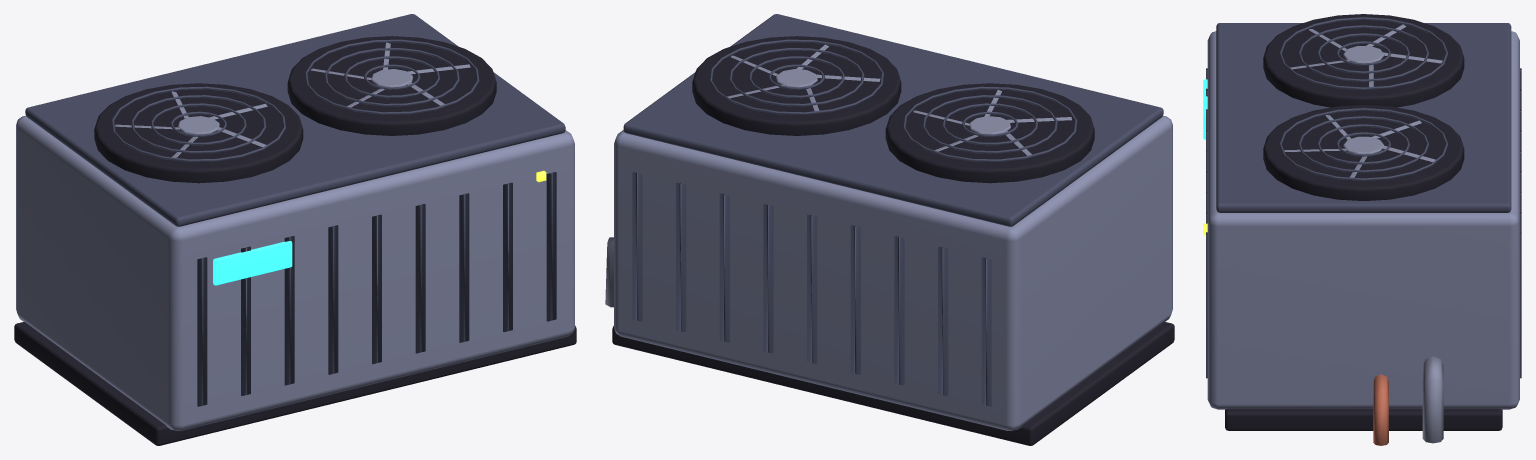
Rendered from neon_ac_unit.glb.
3 renders of one model, left to right at view 1: azimuth 30°, elevation 25°; view 2: azimuth 150°, elevation 25°; view 3: azimuth 270°, elevation 25°, orthographic. The views are drawn at different scales.
Parts seen in each view (by area): view 1: ACUnit; view 2: ACUnit; view 3: ACUnit.
Boxes of the visible parts, x1,y1,x2,y2 form: ACUnit: (14, 14, 576, 445); ACUnit: (605, 14, 1174, 445); ACUnit: (1203, 14, 1521, 445).
Bounding box in the file's own units: 3 × 1.5 × 1.84.
